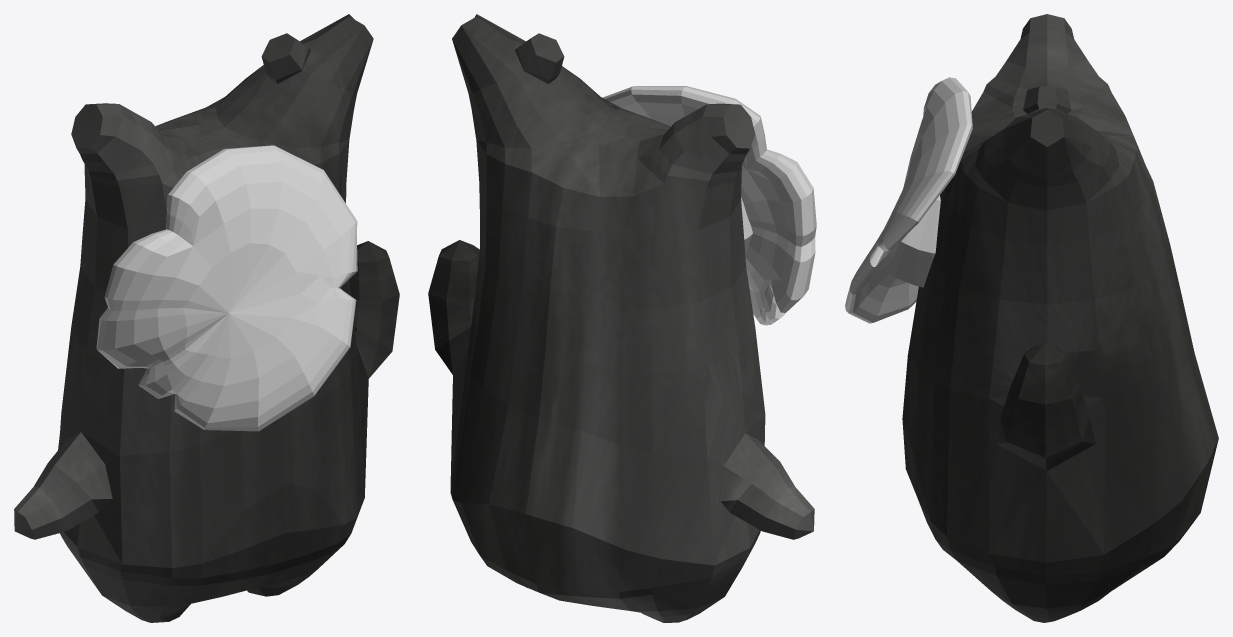
File: frame_0041.obj
3 views of the same model, side by side, from view 1: azimuth 30°, elevation 25°; view 2: azimuth 150°, elevation 25°; view 3: azimuth 270°, elevation 25° (orthographic).
Visible parts, largest first — view 1: korok, leaf; view 2: korok, leaf; view 3: korok, leaf, nose.
Boxes of the visible parts, x1=… form: korok: x1=14, y1=14, x2=399, y2=622; leaf: x1=96, y1=145, x2=357, y2=431; korok: x1=428, y1=14, x2=814, y2=622; leaf: x1=602, y1=86, x2=816, y2=325; korok: x1=902, y1=14, x2=1218, y2=622; leaf: x1=845, y1=77, x2=972, y2=323; nose: x1=886, y1=195, x2=940, y2=287.
Bounding box in the file's own units: 1.6 × 2.24 × 1.38.
